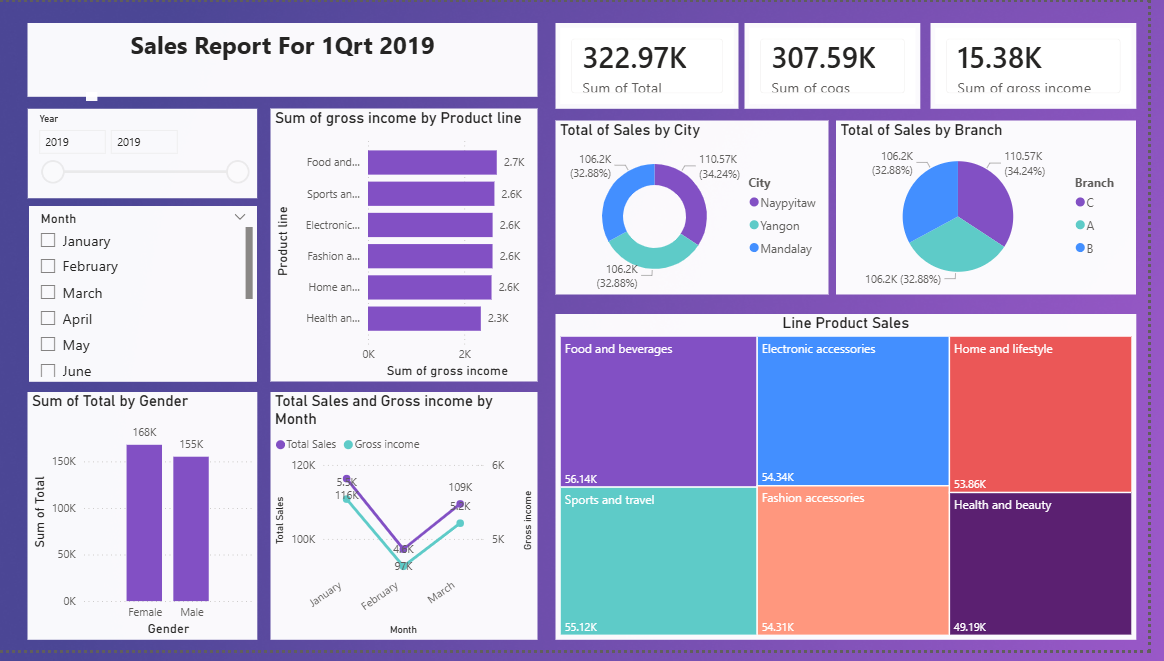

This screenshot's page, from the dashboard's own definition file:
{"tool":"powerbi","page":{"name":"Page 1","canvas":[1280,720],"ordinal":0},"visuals":[{"type":"cardVisual","fields":{"Data":["Sum(supermarket_sales - Sheet1.gross income)"]},"box":[1038.3,23.3,228.3,95],"z":0},{"type":"cardVisual","fields":{"Data":["Sum(supermarket_sales - Sheet1.cogs)"]},"box":[831.7,23.3,195,95],"z":1000},{"type":"cardVisual","fields":{"Data":["Sum(supermarket_sales - Sheet1.Total)"]},"box":[621.7,23.3,203.3,95],"z":2000},{"type":"pieChart","fields":{"Category":["supermarket_sales - Sheet1.Branch"],"Y":["Sum(supermarket_sales - Sheet1.Total)"]},"box":[933.3,131.7,333.3,193.3],"z":3000},{"type":"donutChart","fields":{"Category":["supermarket_sales - Sheet1.City"],"Y":["Sum(supermarket_sales - Sheet1.Total)"]},"box":[621.7,131.7,303.3,193.3],"z":4000},{"type":"treemap","title":"Line Product Sales","fields":{"Group":["supermarket_sales - Sheet1.Product line"],"Values":["Sum(supermarket_sales - Sheet1.Total)"]},"box":[621.7,346.7,645,361.7],"z":5000},{"type":"clusteredColumnChart","fields":{"Category":["supermarket_sales - Sheet1.Gender"],"Y":["Sum(supermarket_sales - Sheet1.Total)"]},"box":[35,433.3,255,275],"z":6000},{"type":"slicer","fields":{"Values":["supermarket_sales - Sheet1.Date.Variation.Date Hierarchy.Year"]},"box":[35,118.3,255,100],"z":7000},{"type":"slicer","fields":{"Values":["supermarket_sales - Sheet1.Date.Variation.Date Hierarchy.Month"]},"box":[36.7,226.7,253.3,195],"z":8000},{"type":"lineChart","fields":{"Category":["supermarket_sales - Sheet1.Date.Variation.Date Hierarchy.Month"],"Y":["Sum(supermarket_sales - Sheet1.Total)"],"Y2":["Sum(supermarket_sales - Sheet1.gross income)"]},"box":[305,433.3,296.7,275],"z":9000},{"type":"clusteredBarChart","fields":{"Category":["supermarket_sales - Sheet1.Product line"],"Y":["Sum(supermarket_sales - Sheet1.gross income)"]},"box":[305,118.3,296.7,303.3],"z":10000},{"type":"textbox","box":[100,100,12.5,5],"z":11000},{"type":"textbox","box":[35,23.3,566.7,81.7],"z":12000}]}

Visuals, with their boxes in screenshot pixels (x1, y1, x2, y2), scaled from the page's 1280x720 canvas onto the 1164x661 screenshot:
cardVisual - Sum(supermarket_sales - Sheet1.gross income): 944:21:1152:109
cardVisual - Sum(supermarket_sales - Sheet1.cogs): 756:21:934:109
cardVisual - Sum(supermarket_sales - Sheet1.Total): 565:21:750:109
pieChart - supermarket_sales - Sheet1.Branch x Sum(supermarket_sales - Sheet1.Total): 849:121:1152:298
donutChart - supermarket_sales - Sheet1.City x Sum(supermarket_sales - Sheet1.Total): 565:121:841:298
"Line Product Sales" treemap: 565:318:1152:650
clusteredColumnChart - supermarket_sales - Sheet1.Gender x Sum(supermarket_sales - Sheet1.Total): 32:398:264:650
slicer - supermarket_sales - Sheet1.Date.Variation.Date Hierarchy.Year: 32:109:264:200
slicer - supermarket_sales - Sheet1.Date.Variation.Date Hierarchy.Month: 33:208:264:387
lineChart - supermarket_sales - Sheet1.Date.Variation.Date Hierarchy.Month x Sum(supermarket_sales - Sheet1.Total): 277:398:547:650
clusteredBarChart - supermarket_sales - Sheet1.Product line x Sum(supermarket_sales - Sheet1.gross income): 277:109:547:387
textbox: 91:92:102:96
textbox: 32:21:547:96
